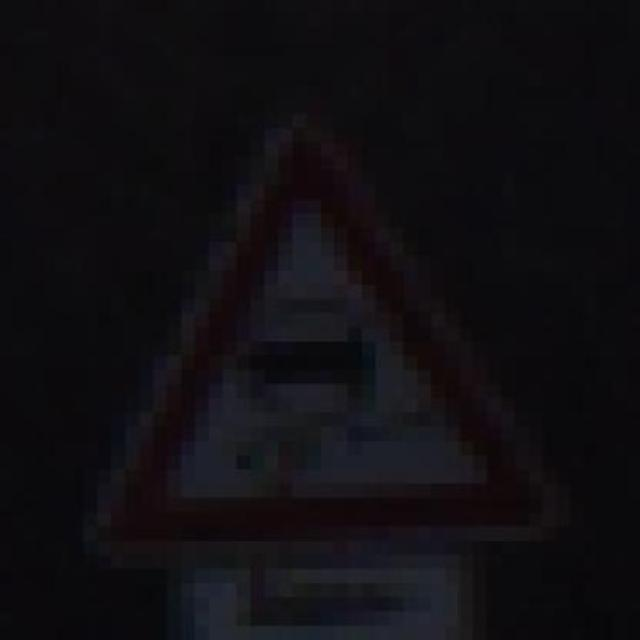Slippery Road Ahead: (56, 113, 584, 555)
